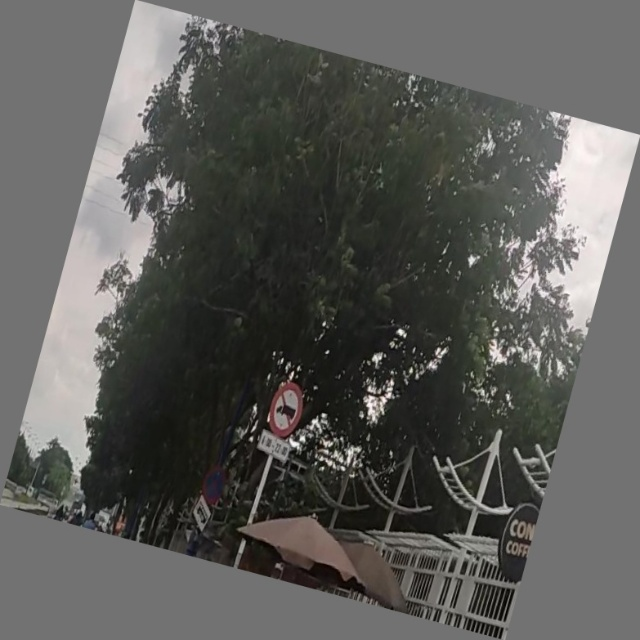B.8a: (257, 380, 307, 461)
